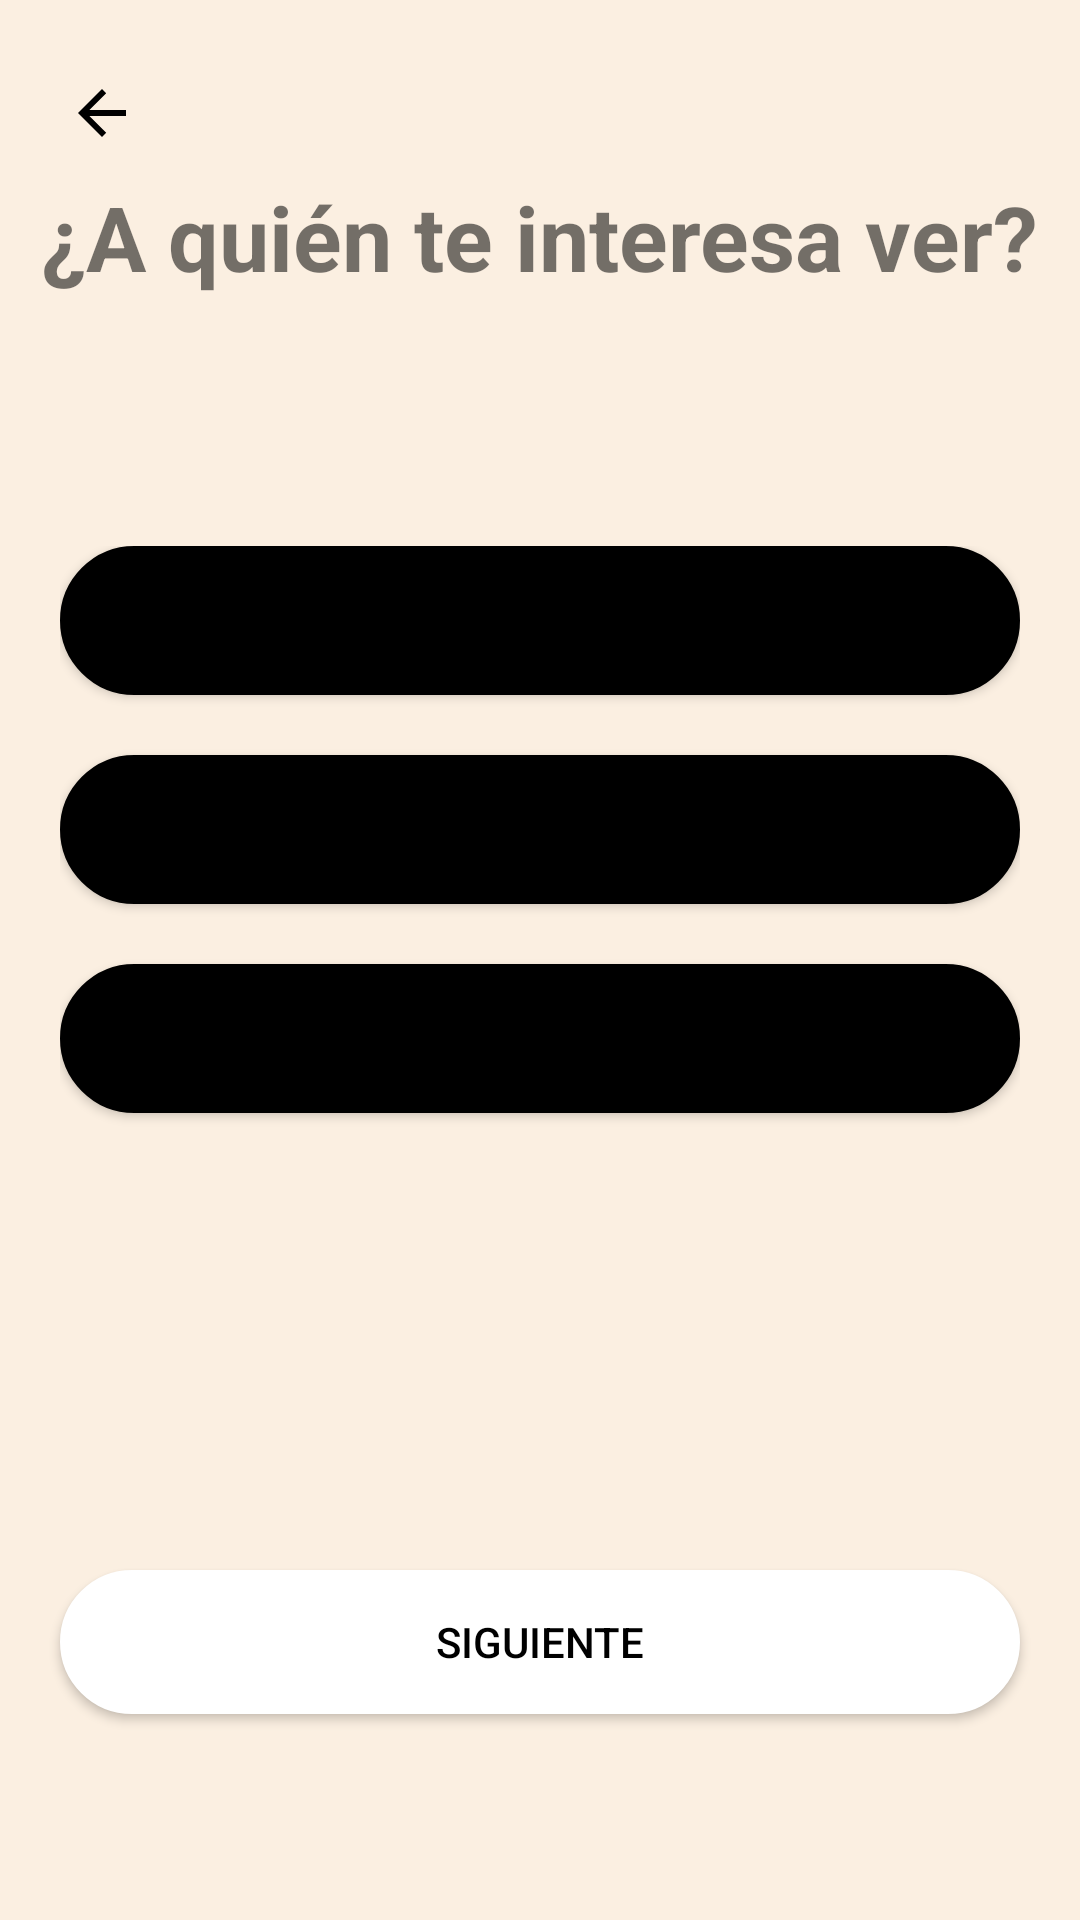

Where to tap for icons on this 1080 x 1920 app screen, as [x,y]:
Volver atras: [102,113]
